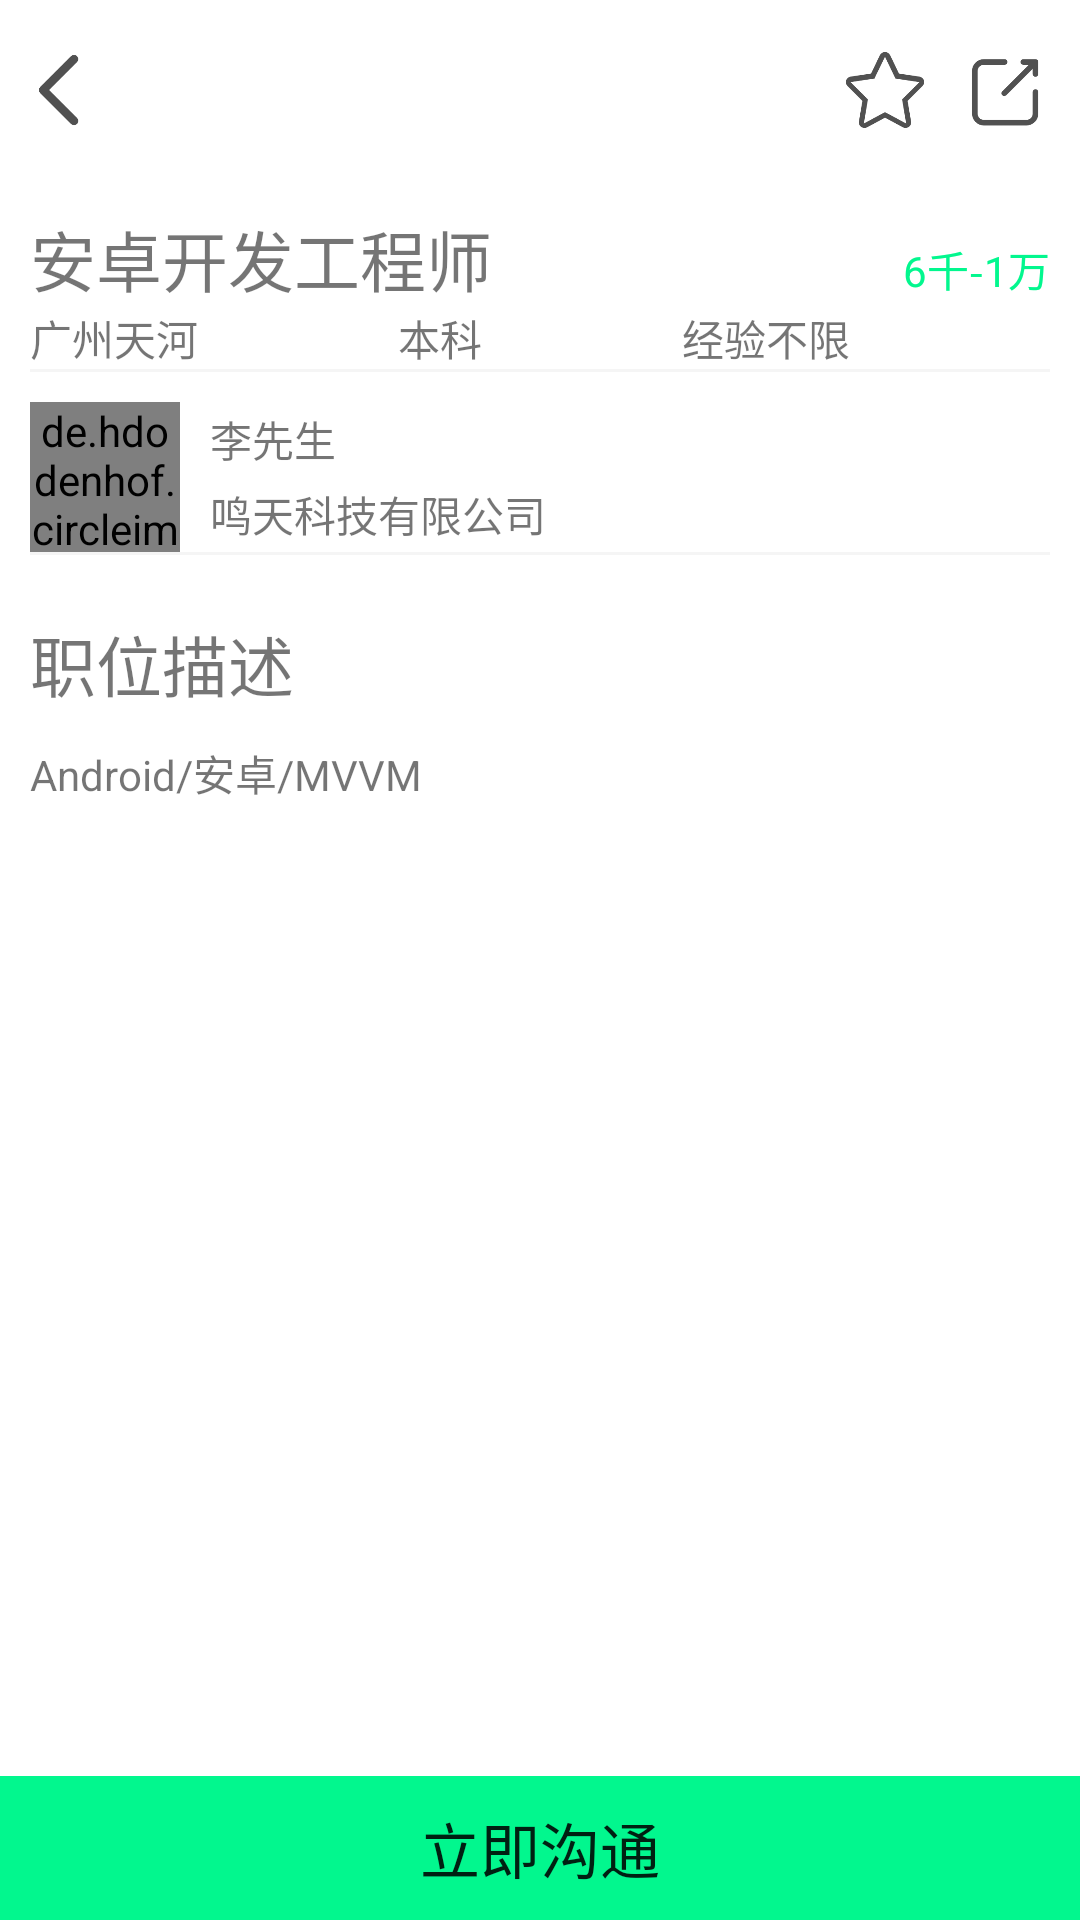

Icon bounding boxes for this 1080×1920 phone screenshot, format (x1, y1, x2, y2):
back: (39, 55, 79, 125)
share: (972, 59, 1038, 126)
star: (846, 52, 924, 128)
